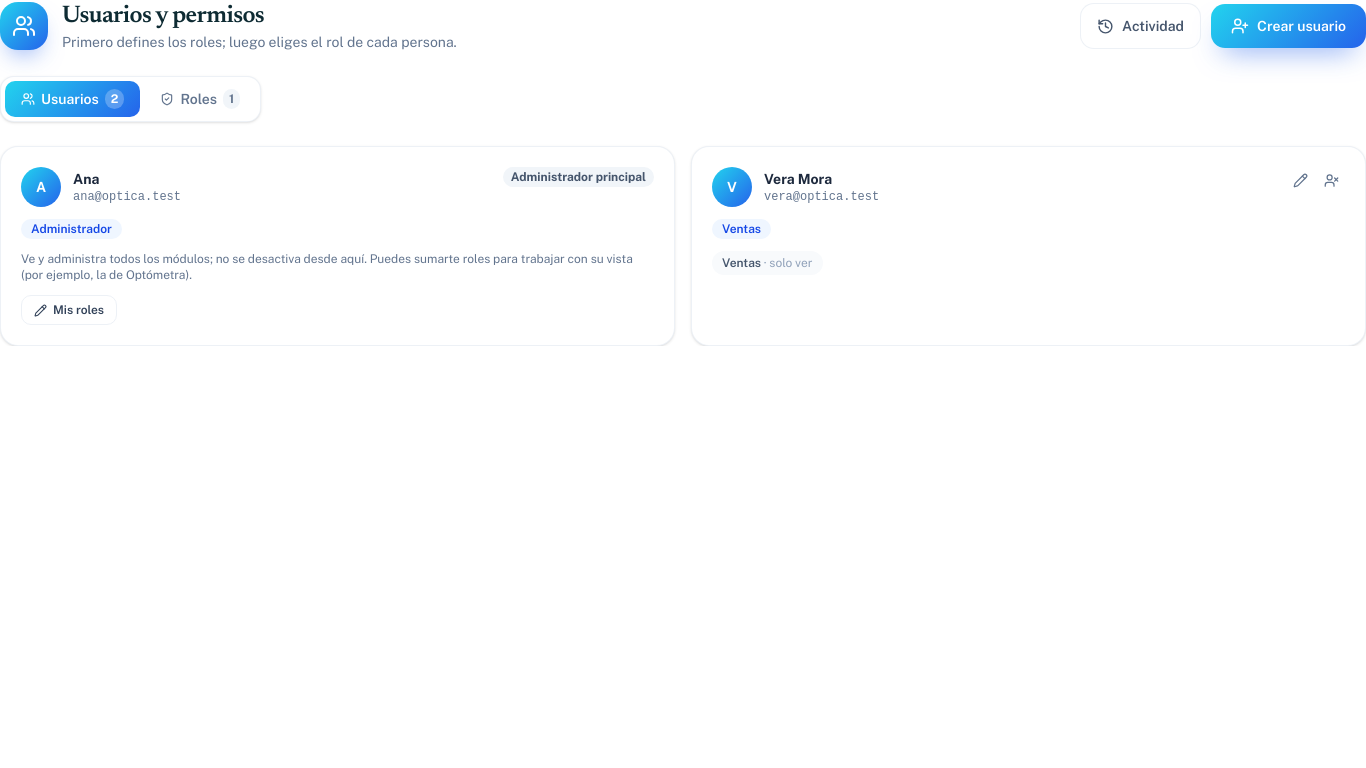
Test: Usuarios: desactivar › la ventana explica que no podrá ingresar, que su historial se conserva, que se puede reactivar y que no existe «eliminar»
The width and height of the screenshot is (1366, 768).
Step 1. Click the button named "Desactivar a Vera Mora" → click(1332, 180), box [1318,167,1345,194]
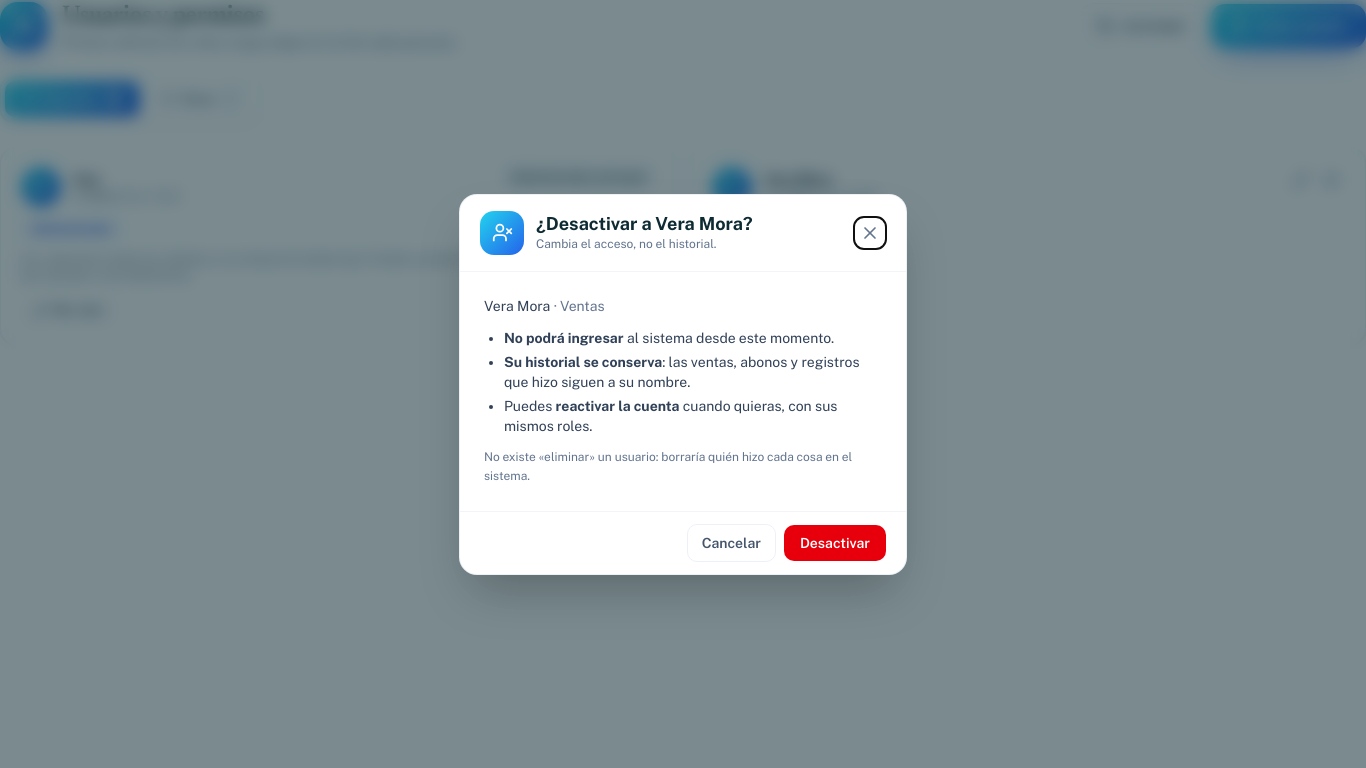
Result: the dialog "¿Desactivar a Vera Mora?" shows "No podrá ingresar al sistema desde este momento." at [459,194,907,574]
Result: the dialog "¿Desactivar a Vera Mora?" shows "Su historial se conserva: las ventas, abonos y registros que hizo siguen a su nombre." at [459,194,907,574]
Result: the dialog "¿Desactivar a Vera Mora?" shows "Puedes reactivar la cuenta cuando quieras, con sus mismos roles." at [459,194,907,574]
